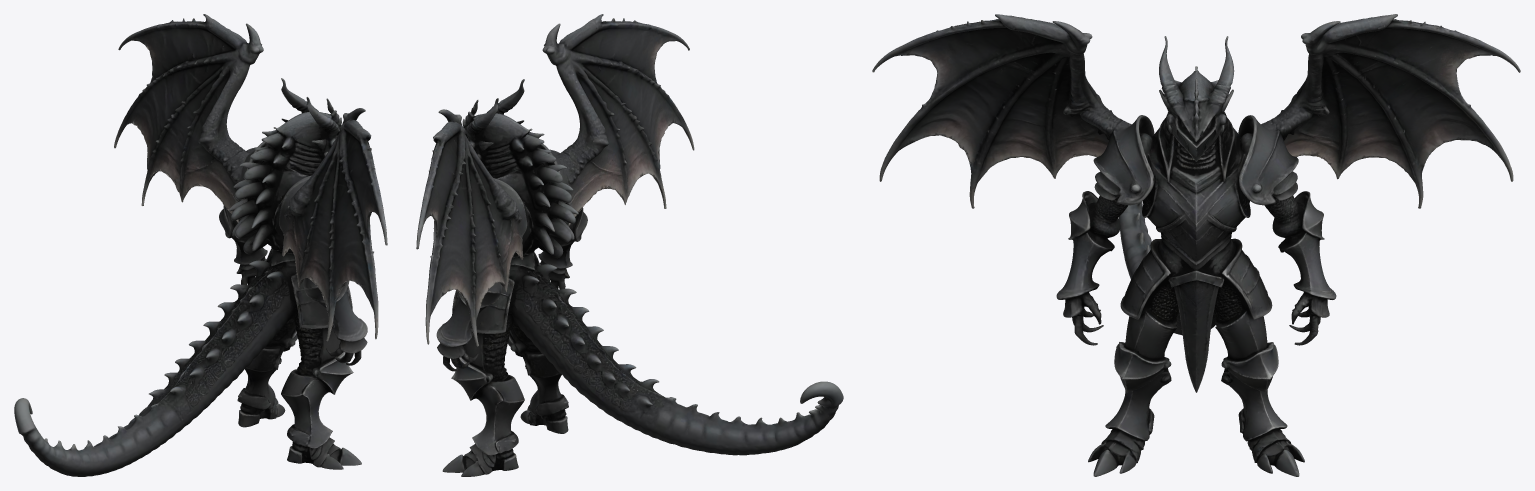
Rendered from gothic-knight.glb.
3 renders of one model, left to right at view 1: azimuth 30°, elevation 25°; view 2: azimuth 150°, elevation 25°; view 3: azimuth 270°, elevation 25°, orthographic. The views are drawn at different scales.
Parts seen in each view (by area): view 1: tripo_node_8dd7a82c_tripo_mat_8dd7a82c_0; view 2: tripo_node_8dd7a82c_tripo_mat_8dd7a82c_0; view 3: tripo_node_8dd7a82c_tripo_mat_8dd7a82c_0.
Part boxes in pixels (x1,y1,x2,y2): tripo_node_8dd7a82c_tripo_mat_8dd7a82c_0: (14, 14, 387, 476); tripo_node_8dd7a82c_tripo_mat_8dd7a82c_0: (416, 14, 843, 476); tripo_node_8dd7a82c_tripo_mat_8dd7a82c_0: (872, 14, 1520, 476).
Size of the model in its own units: 0.7668 by 0.7627 by 0.9999.
Materials: 1 (1 with a texture image).
